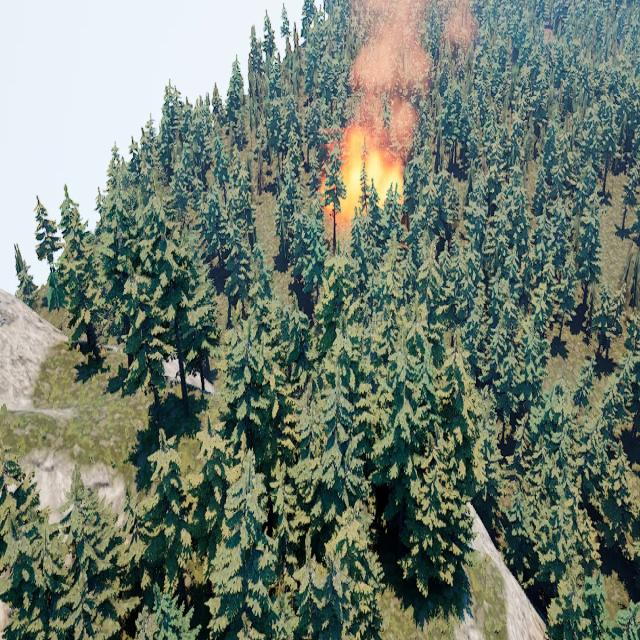fire: (319, 126, 407, 217)
smoke: (348, 0, 483, 143)
